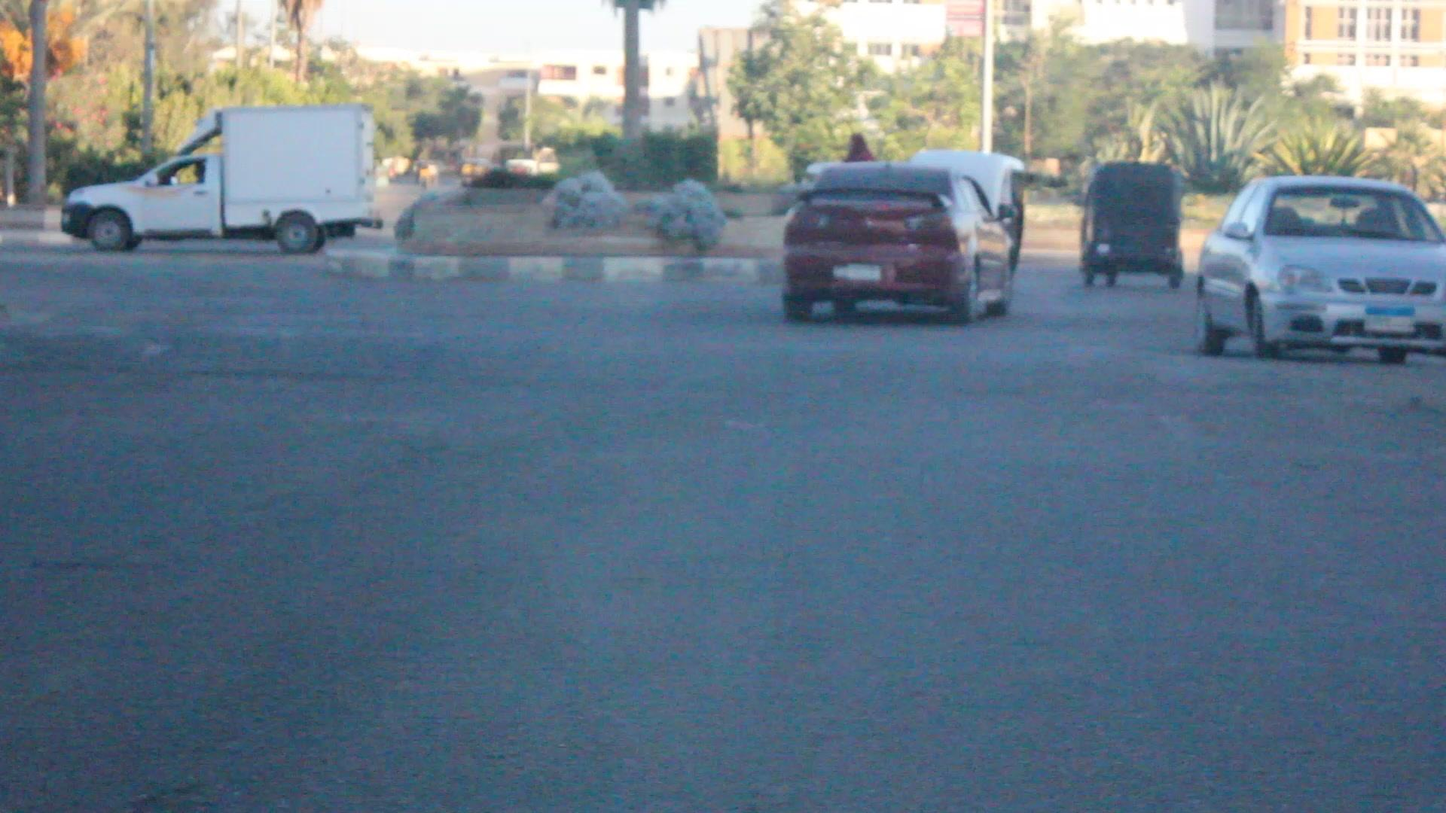Bump: (0, 311, 1445, 410)
